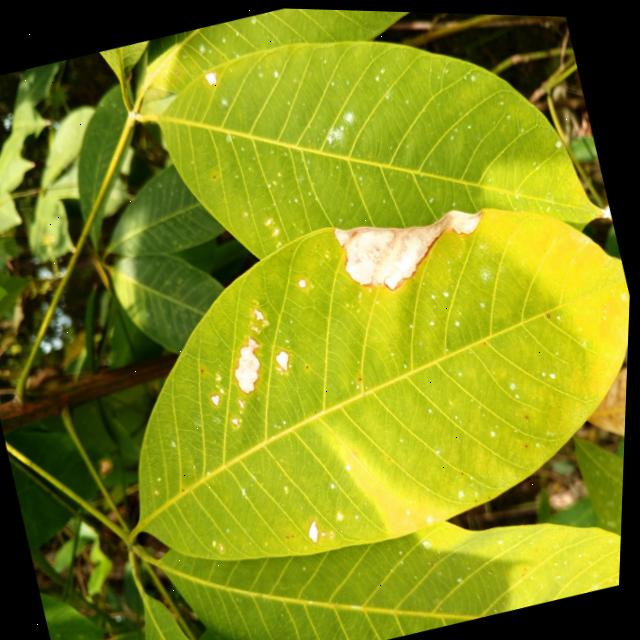Colletotrichum: (174, 69, 179, 74), (549, 309, 552, 313)
Leaf-Blight: (330, 179, 498, 301), (227, 333, 272, 394), (276, 346, 296, 371), (308, 517, 326, 542), (204, 69, 218, 84), (299, 275, 309, 285)
